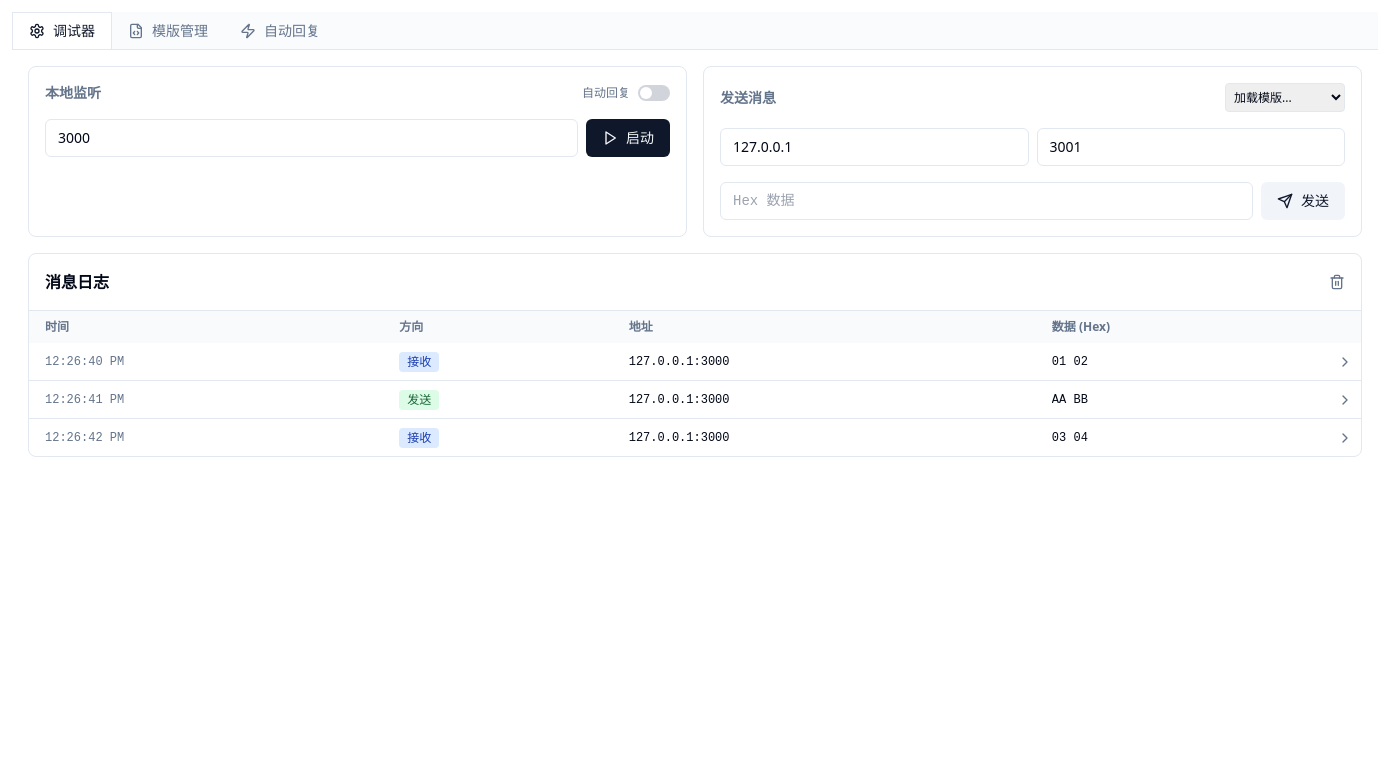
Test: UdpDebugger › expands message row on click and shows parsed info (Full Match)
This screenshot has width=1378, height=780.
Expected: the text "01 02" is shown, [1052,354,1088,368]
Step 1. Click the text "01 02" → coordinates (695, 362), box [29,343,1361,380]
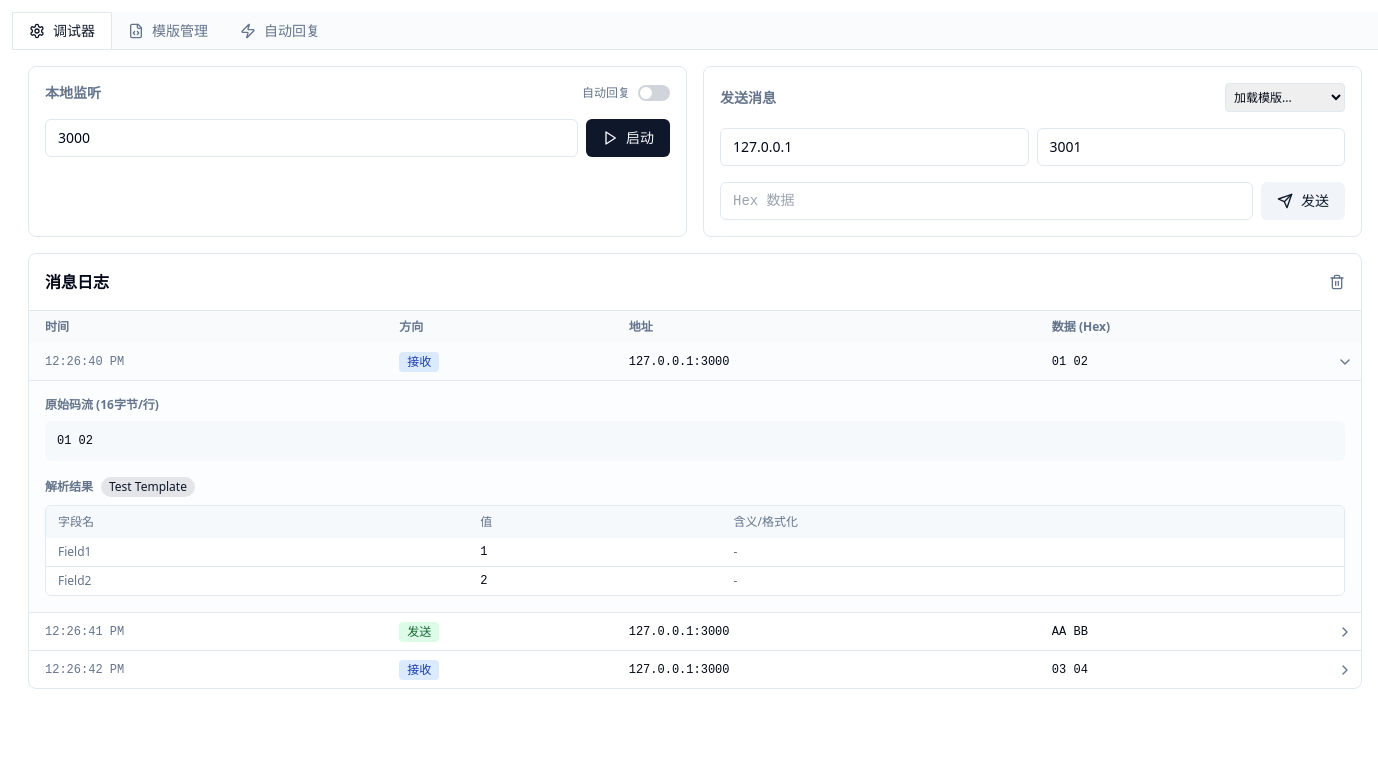
Expected: the heading "原始码流 (16字节/行)" is shown, [45,396,159,413]
Expected: the heading "解析结果" is shown, [45,479,93,495]
Expected: the text "Test Template" is shown, [101,477,195,497]
